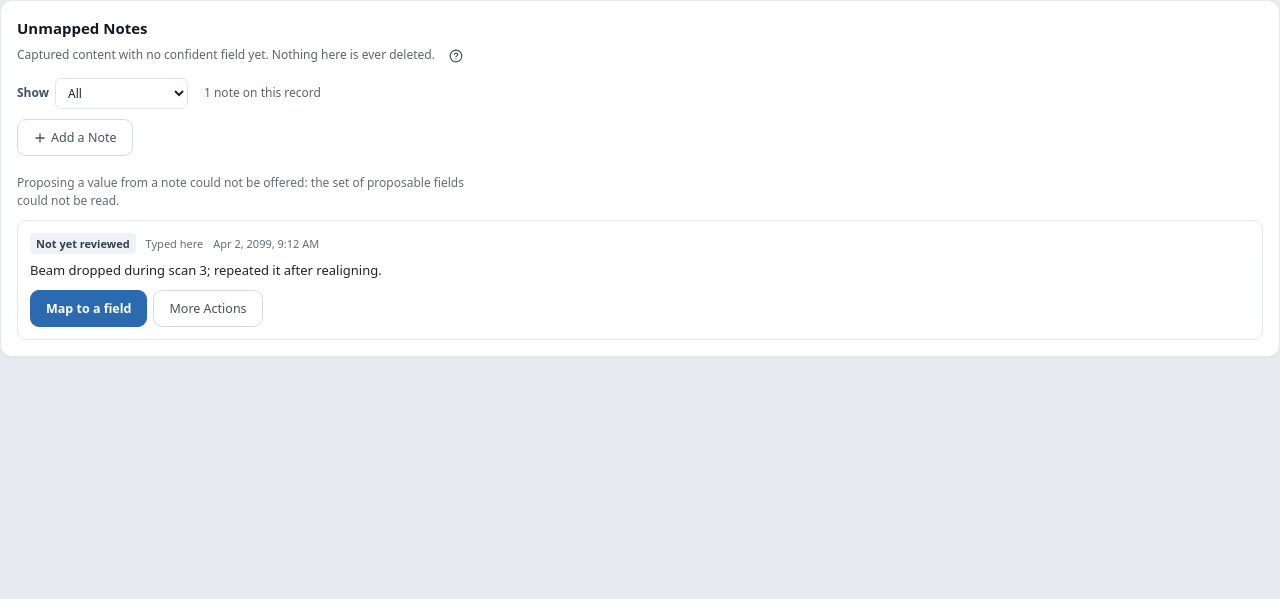
no guessed schema target › the field control offers exactly the server's paths, with nothing pre-selected
Step 1. Click the button "Map to a field" → (89,309), box [30,290,148,327]
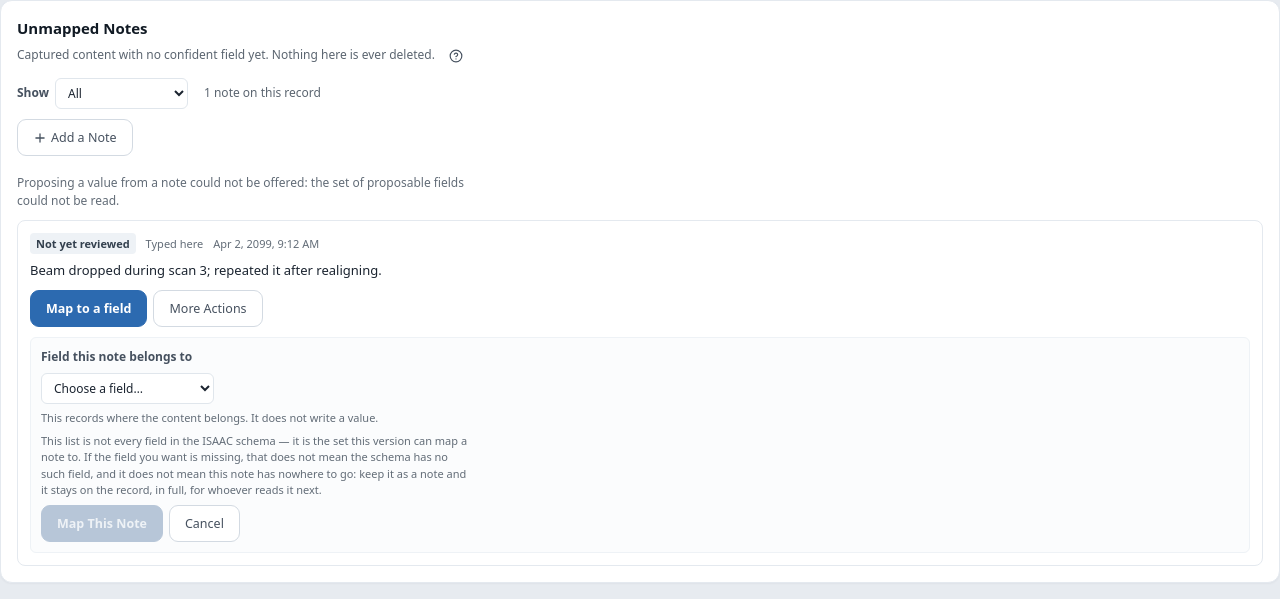
Now the dropdown labelled "Field this note belongs to" shows "Choose a field…", box [41,373,214,404]
Now the button "Map This Note" is disabled, box [41,504,163,542]
